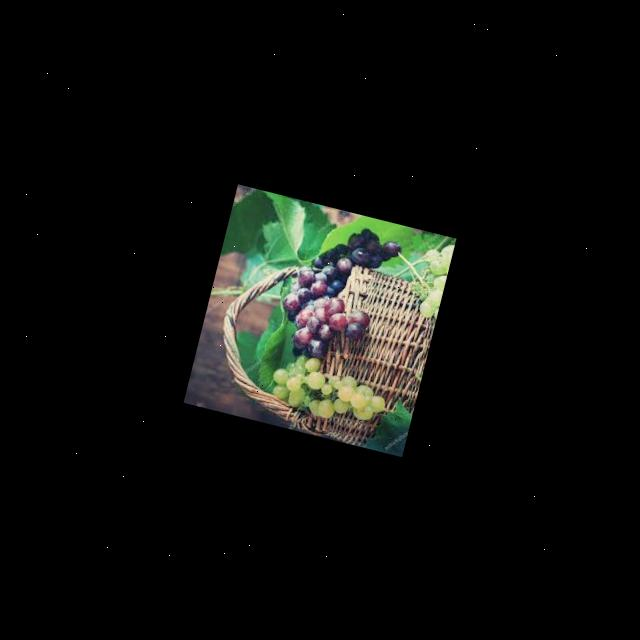grape: (265, 347, 392, 431)
